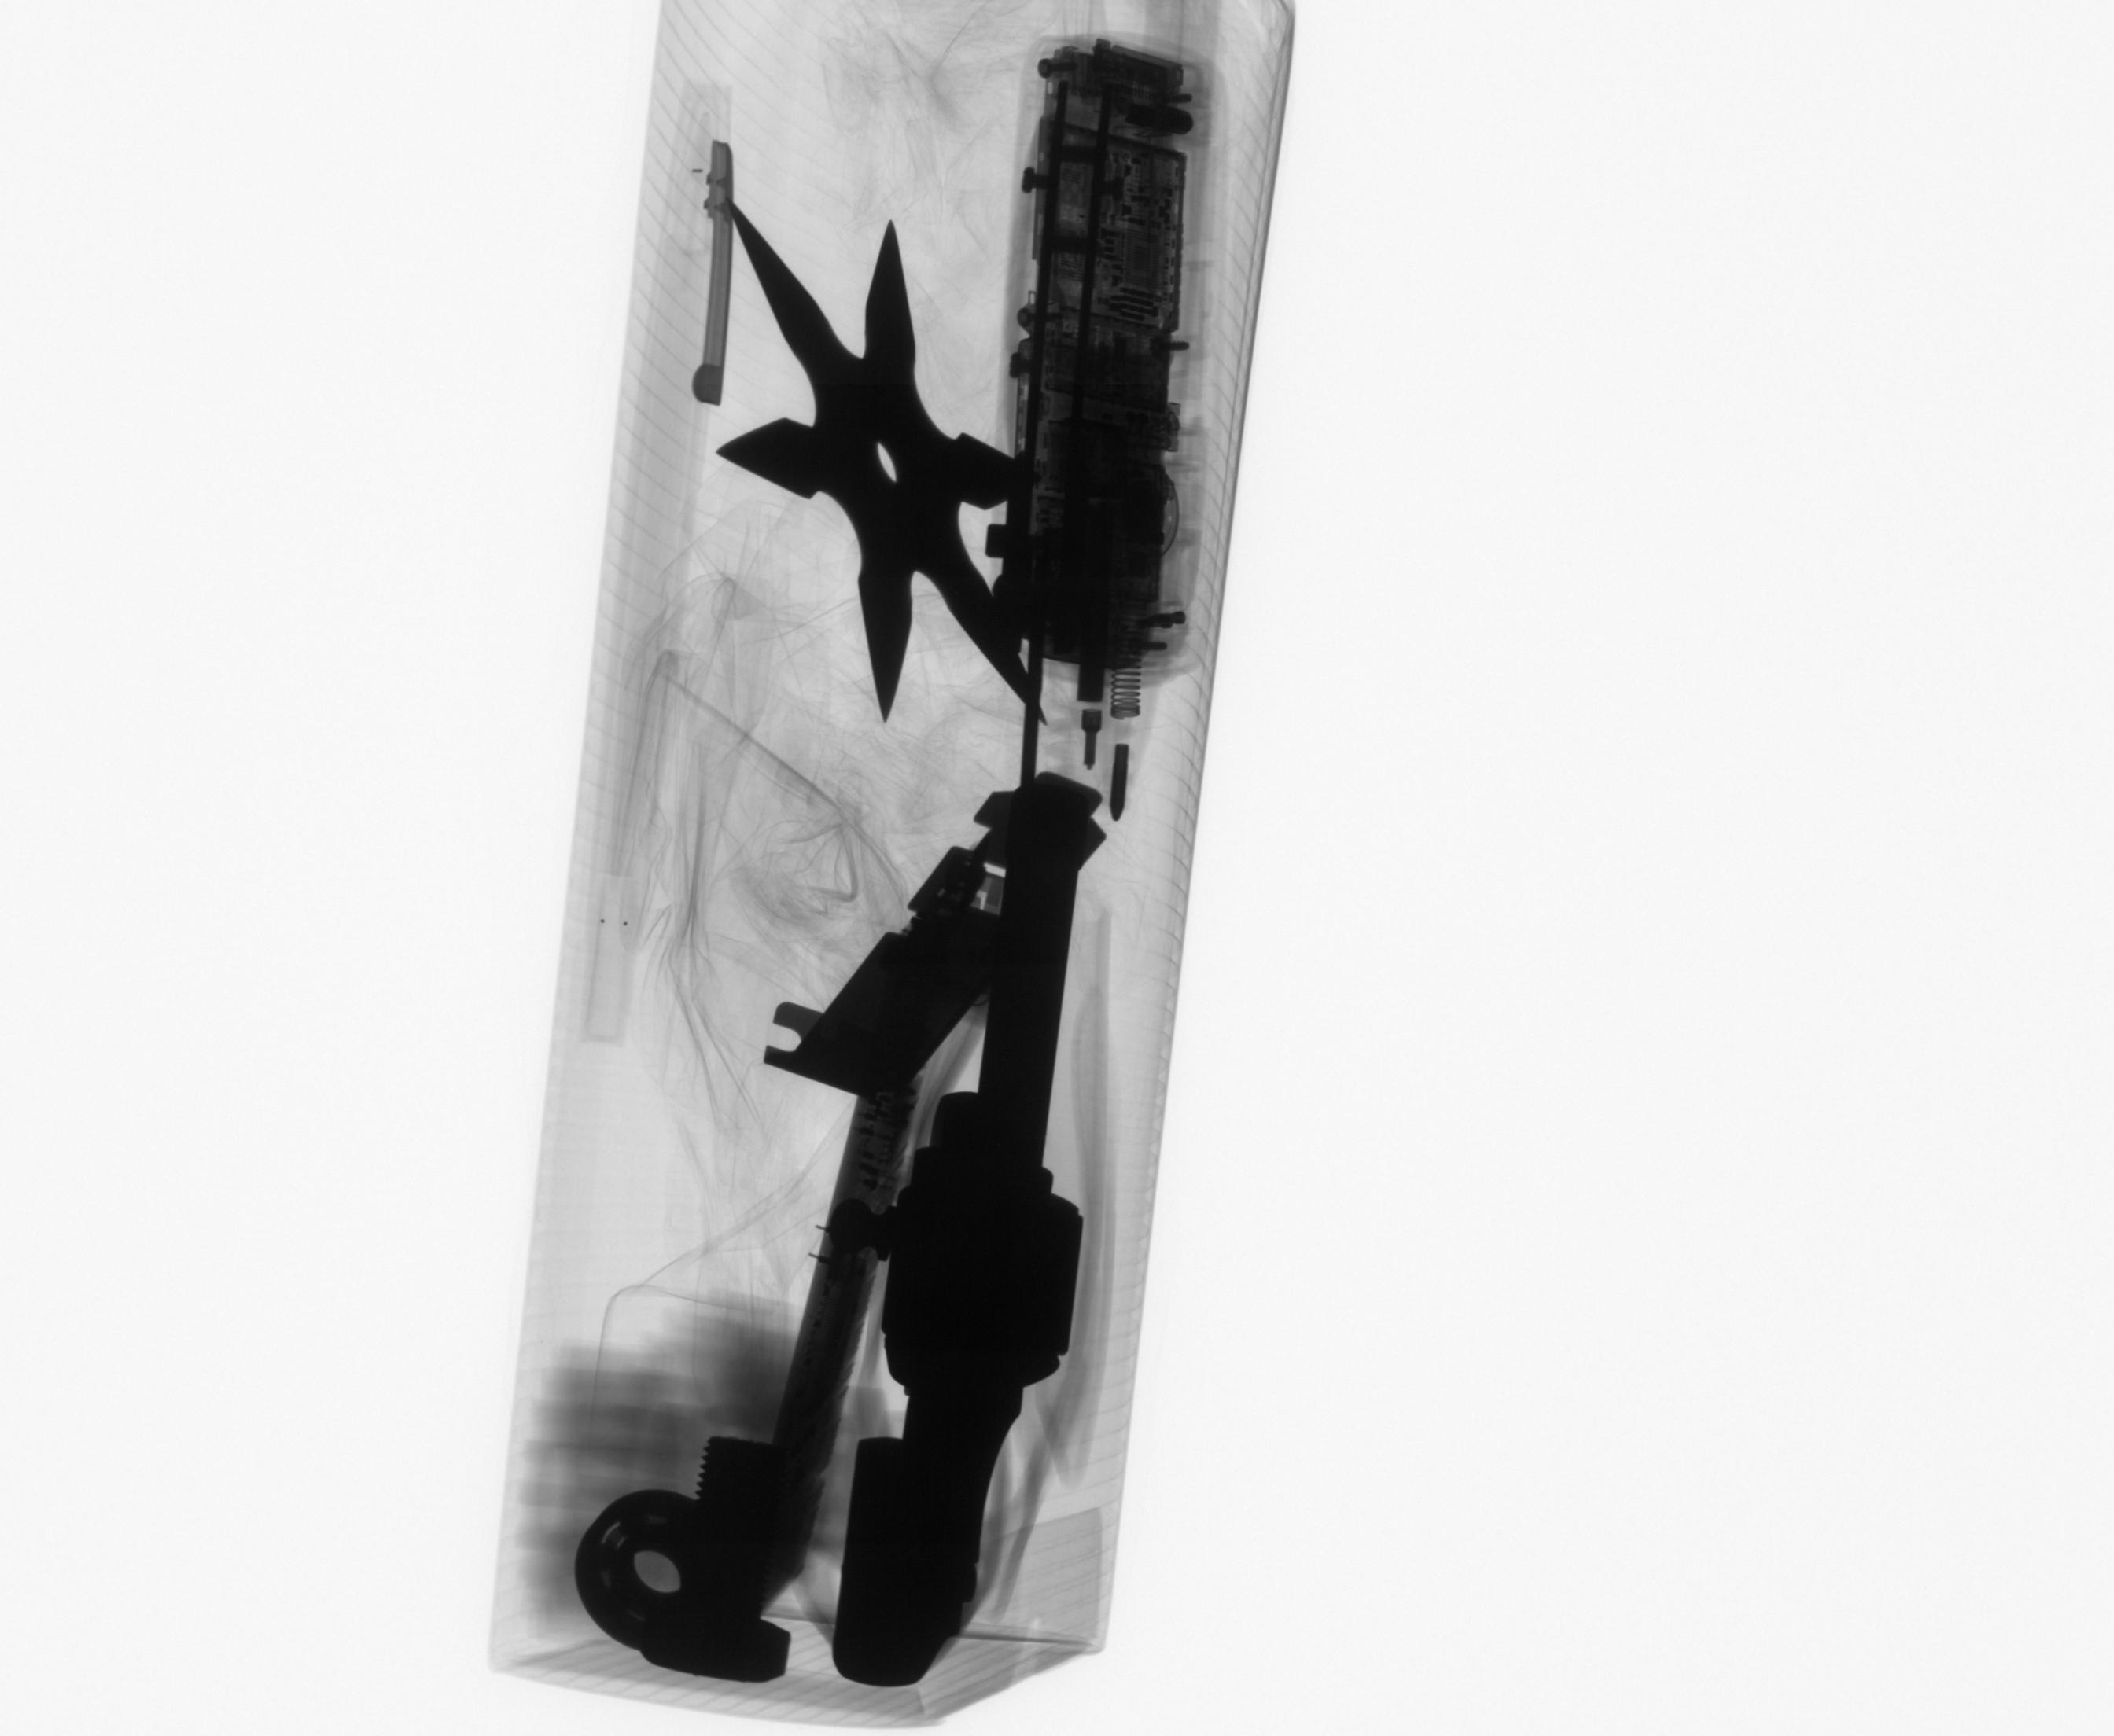Handgun: (819, 771, 1103, 1696)
Shuriken: (705, 192, 1063, 734)
